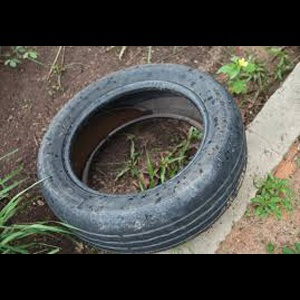tire: (36, 63, 248, 252)
